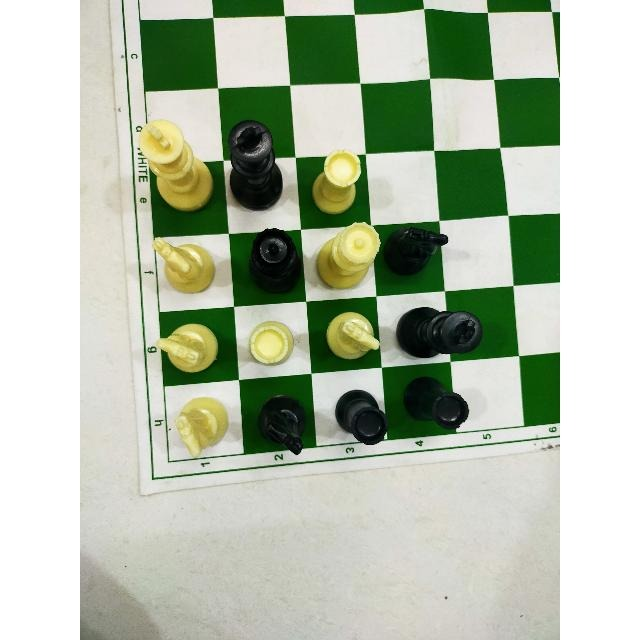black-king: (131, 108, 219, 217)
black-knight: (251, 387, 314, 463), (379, 221, 455, 283)
black-queen: (239, 226, 303, 298)
black-rook: (394, 371, 473, 438), (324, 384, 391, 454)
white-knight: (144, 228, 223, 302), (152, 317, 224, 380), (172, 388, 228, 468), (167, 396, 233, 461), (316, 310, 383, 368)
white-queen: (313, 217, 384, 293)
white-rook: (301, 141, 368, 220), (302, 149, 364, 215), (244, 311, 300, 373)
